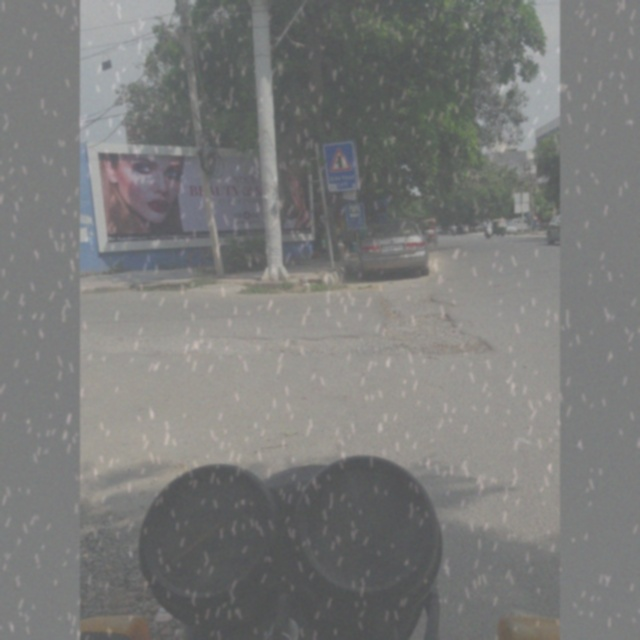Side_Road_Left: (326, 145, 358, 178)
